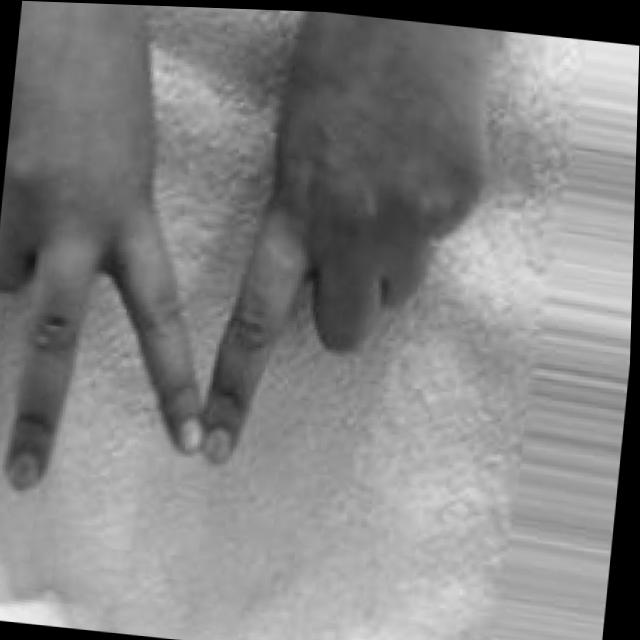N: (0, 0, 513, 547)
